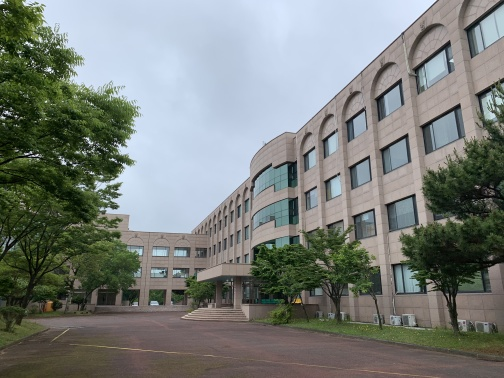Natural Science2: (196, 49, 502, 328), (175, 110, 329, 327)
